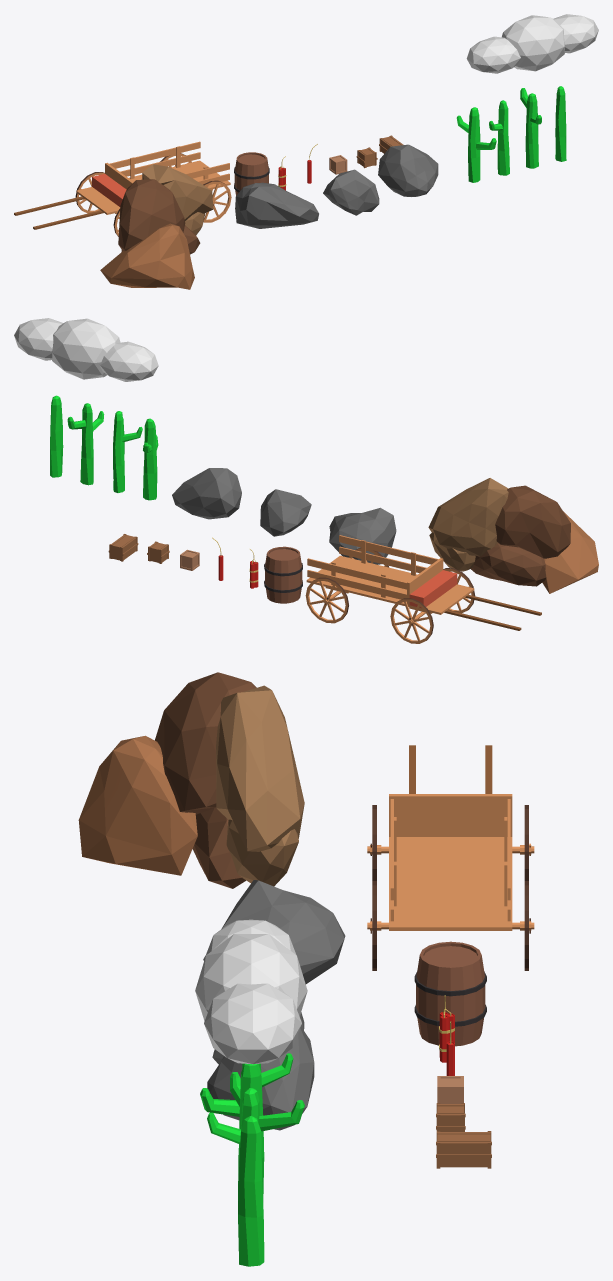
The picture shows the model from 3 angles, top to bottom: view 1: azimuth 30°, elevation 25°; view 2: azimuth 150°, elevation 25°; view 3: azimuth 270°, elevation 25°; orthographic projection. The views are drawn at different scales.
Visible parts, largest first — view 1: Cloud, Wagon, BrownRock3, BrownRock1, Rock3, Rock, BrownRock2, Rock2, Cactus1, Barrel, Cactus3, Cactus2 (+1 smaller); view 2: Wagon, BrownRock1, Cloud, BrownRock2, Rock, BrownRock3, Rock3, Barrel, Rock2, Cactus3, Cactus1, Cactus2 (+2 smaller); view 3: Wagon, BrownRock2, Cloud, BrownRock3, BrownRock1, Barrel, Rock3, Rock, Cactus4, Box3, Cactus3, Cactus2 (+2 smaller).
Boxes of the visible parts, bbox=[...] form: Cloud: bbox=[466, 14, 598, 73]; Wagon: bbox=[14, 141, 231, 236]; BrownRock3: bbox=[100, 223, 194, 289]; BrownRock1: bbox=[118, 179, 200, 254]; Rock3: bbox=[235, 182, 318, 228]; Rock: bbox=[378, 144, 438, 196]; BrownRock2: bbox=[142, 164, 213, 235]; Rock2: bbox=[323, 169, 379, 215]; Cactus1: bbox=[456, 107, 496, 182]; Barrel: bbox=[234, 152, 269, 195]; Cactus3: bbox=[520, 88, 541, 168]; Cactus2: bbox=[489, 100, 509, 175]; Wagon: bbox=[305, 535, 541, 643]; BrownRock1: bbox=[470, 485, 570, 586]; Cloud: bbox=[14, 318, 158, 381]; BrownRock2: bbox=[428, 478, 508, 571]; Rock: bbox=[172, 468, 241, 519]; BrownRock3: bbox=[542, 511, 598, 593]; Rock3: bbox=[329, 507, 396, 564]; Barrel: bbox=[264, 546, 302, 603]; Rock2: bbox=[260, 489, 311, 536]; Cactus3: bbox=[67, 403, 104, 485]; Cactus1: bbox=[143, 418, 158, 500]; Cactus2: bbox=[113, 411, 142, 492]; Wagon: bbox=[367, 745, 534, 970]; BrownRock2: bbox=[216, 685, 304, 886]; Cloud: bbox=[195, 919, 307, 1064]; BrownRock3: bbox=[78, 735, 197, 875]; BrownRock1: bbox=[155, 672, 256, 888]; Barrel: bbox=[414, 941, 486, 1046]; Rock3: bbox=[203, 880, 345, 984]; Rock: bbox=[207, 1027, 314, 1130]; Cactus4: bbox=[238, 1116, 264, 1266]; Box3: bbox=[436, 1131, 491, 1168]; Cactus3: bbox=[207, 1088, 304, 1161]; Cactus2: bbox=[230, 1063, 264, 1202].
Size of the model in its own units: 9047 by 2657 by 3423.
